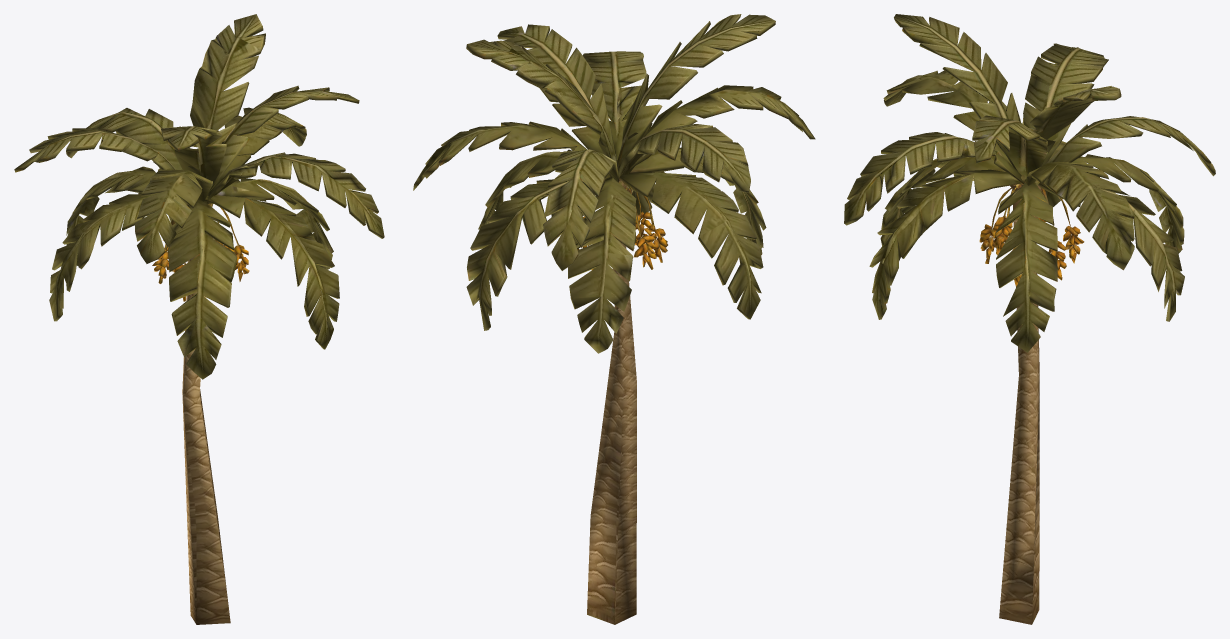
Rendered from palmier.glb.
3 views of the same model, side by side, from view 1: azimuth 30°, elevation 25°; view 2: azimuth 150°, elevation 25°; view 3: azimuth 270°, elevation 25° (orthographic). The views are drawn at different scales.
Bounding box in the file's own units: 0.5449 × 0.9521 × 0.5669.
1 material, 1 textured.
